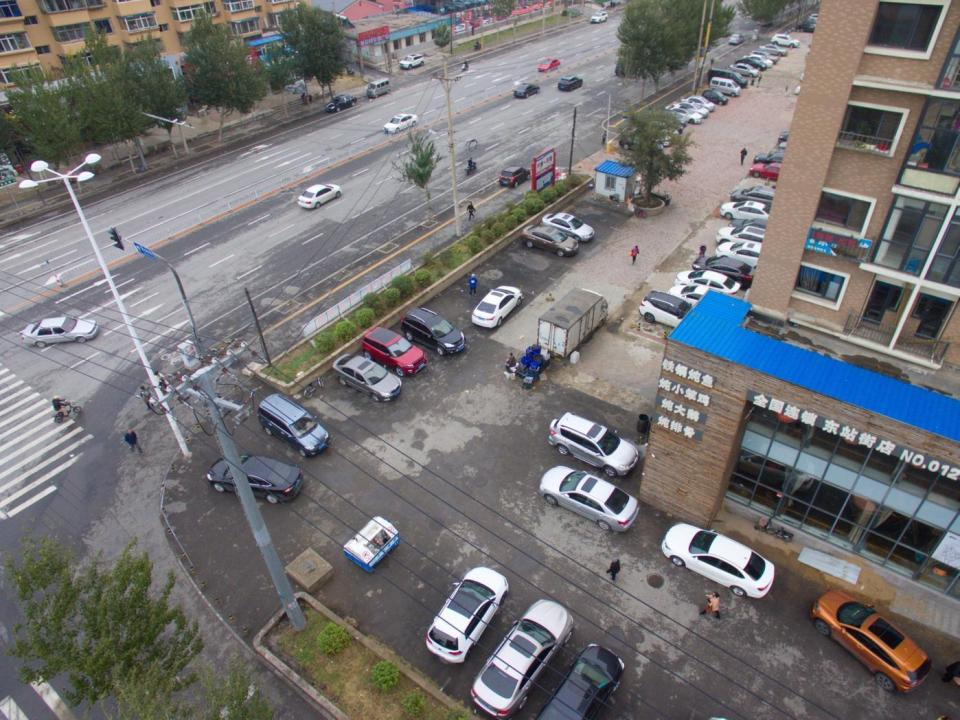car: (812, 588, 935, 693), (469, 598, 574, 712), (659, 522, 774, 600), (423, 566, 509, 664), (540, 464, 642, 532), (540, 644, 627, 716), (548, 411, 641, 476), (204, 454, 302, 505), (333, 352, 404, 404), (402, 307, 467, 359), (364, 326, 425, 375), (638, 290, 700, 334), (693, 256, 756, 298), (470, 286, 519, 333), (22, 317, 99, 345), (677, 270, 740, 304), (523, 223, 581, 257), (715, 240, 773, 268), (721, 200, 775, 226), (669, 284, 729, 307), (295, 183, 343, 211), (540, 214, 593, 239), (715, 226, 771, 249), (728, 218, 778, 237), (498, 164, 530, 192), (633, 126, 674, 147), (750, 162, 796, 180), (326, 93, 357, 116), (618, 136, 664, 151), (641, 120, 681, 136), (667, 105, 702, 123), (756, 151, 799, 164), (386, 114, 417, 132), (685, 94, 716, 112), (654, 108, 688, 124), (676, 100, 709, 116), (700, 88, 727, 107), (735, 56, 767, 72), (558, 74, 582, 94), (514, 82, 540, 100), (779, 140, 807, 156), (614, 57, 637, 76), (758, 45, 788, 59), (398, 54, 424, 70), (771, 33, 800, 47), (729, 63, 760, 76), (742, 54, 773, 67), (537, 58, 560, 74), (750, 50, 777, 63), (795, 22, 821, 34), (591, 11, 607, 27), (757, 13, 774, 26), (778, 132, 800, 140), (728, 34, 743, 44), (808, 13, 822, 23), (478, 18, 493, 27), (459, 23, 473, 32), (452, 26, 465, 34), (469, 21, 481, 26)
truck: (535, 288, 610, 356)
van: (258, 395, 328, 456), (734, 188, 779, 208), (706, 68, 748, 87), (710, 77, 740, 98), (367, 78, 391, 100)
